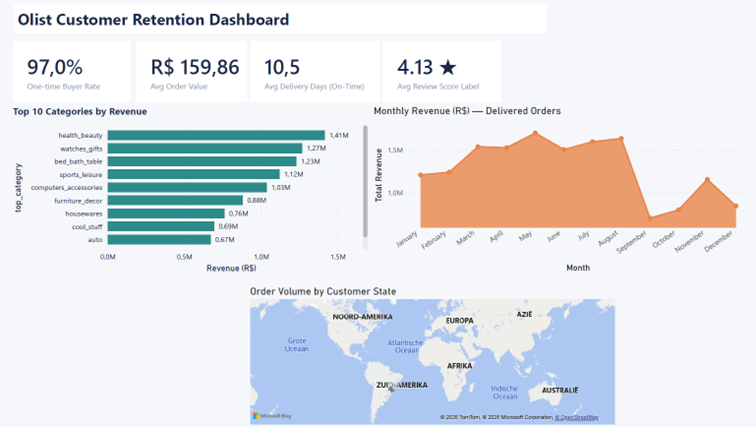

The dashboard page shown, as its layout file describes it:
{"tool":"powerbi","page":{"name":"Executive Overview","canvas":[1280,720],"ordinal":0},"visuals":[{"type":"textbox","box":[20,10,900,40],"z":0},{"type":"cardVisual","fields":{"Data":["olist_powerbi_export.One-time Buyer Rate"]},"box":[16,64,208,112],"z":1000},{"type":"cardVisual","fields":{"Data":["olist_powerbi_export.Avg Order Value"]},"box":[224,64,208,112],"z":2000},{"type":"cardVisual","fields":{"Data":["olist_powerbi_export.Avg Delivery Days (On-Time)"]},"box":[416,64,240,112],"z":3000},{"type":"cardVisual","fields":{"Data":["olist_powerbi_export.Avg Review Score Label"]},"box":[640,64,208,112],"z":4000},{"type":"clusteredBarChart","title":"Top 10 Categories by Revenue","fields":{"Category":["olist_powerbi_export.top_category"],"Y":["olist_powerbi_export.Total Revenue"]},"box":[16,176,608,288],"z":5000},{"type":"lineChart","title":"Monthly Revenue (R$) — Delivered Orders","fields":{"Category":["olist_powerbi_export.order_purchase_timestamp.Variation.Date Hierarchy.Month"],"Y":["olist_powerbi_export.Total Revenue"]},"box":[624,176,640,288],"z":6000},{"type":"filledMap","title":"Order Volume by Customer State","fields":{"Category":["olist_powerbi_export.customer_state"]},"box":[416,480,624,240],"z":7000}]}

Visuals, with their boxes in screenshot pixels (x1, y1, x2, y2), scaled from the page's 1280x720 canvas onto the 756x427 screenshot:
textbox: 12,6,543,30
cardVisual - olist_powerbi_export.One-time Buyer Rate: 9,38,132,104
cardVisual - olist_powerbi_export.Avg Order Value: 132,38,255,104
cardVisual - olist_powerbi_export.Avg Delivery Days (On-Time): 246,38,387,104
cardVisual - olist_powerbi_export.Avg Review Score Label: 378,38,501,104
"Top 10 Categories by Revenue" clusteredBarChart: 9,104,369,275
"Monthly Revenue (R$) — Delivered Orders" lineChart: 369,104,747,275
"Order Volume by Customer State" filledMap: 246,285,614,426
